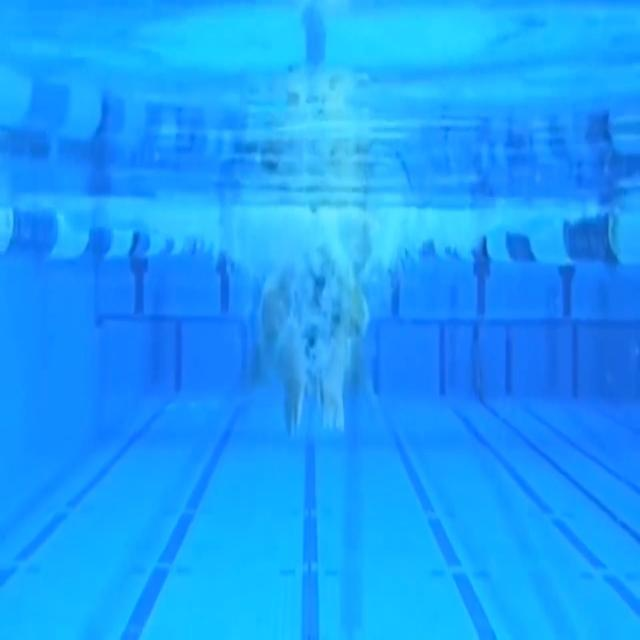Swimming: (256, 260, 372, 438)
